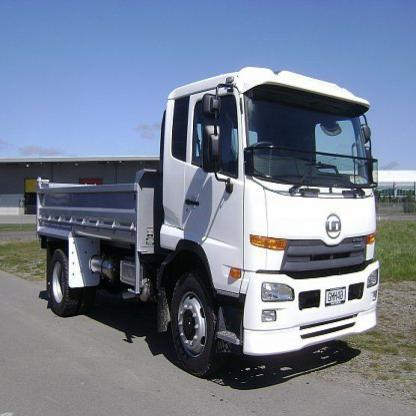dump_truck: (26, 42, 386, 371)
